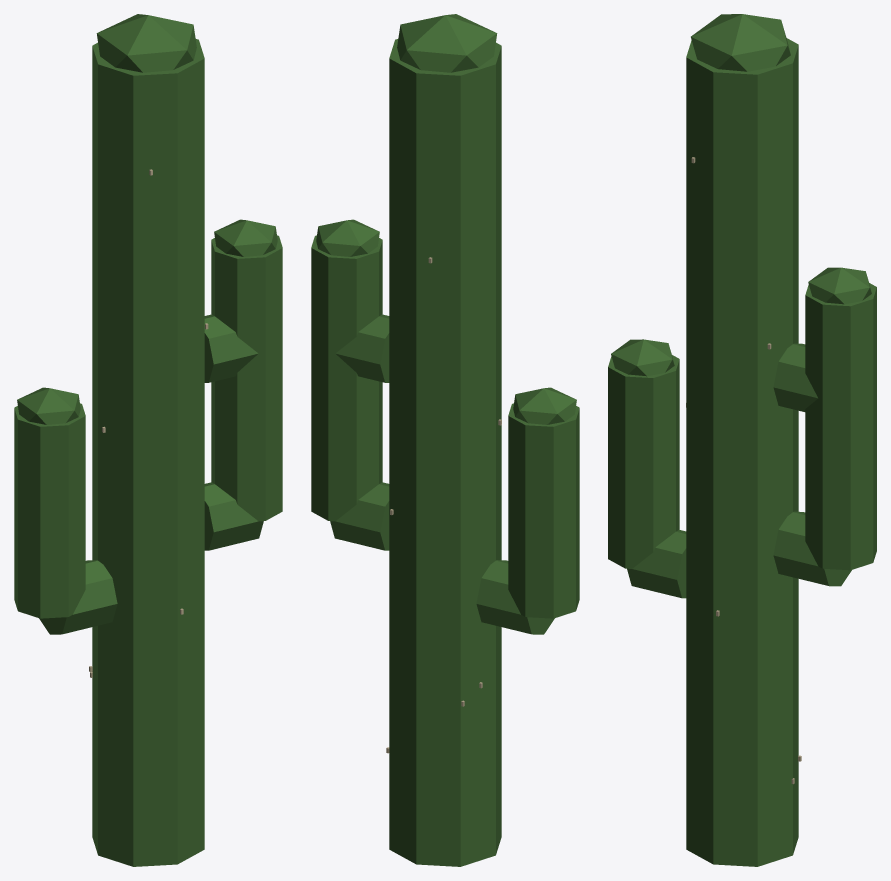
File: bg_desert_cactus_4_lod0.glb
3 views of the same model, side by side, from view 1: azimuth 30°, elevation 25°; view 2: azimuth 150°, elevation 25°; view 3: azimuth 330°, elevation 25° (orthographic).
Parts seen in each view (by area): view 1: body; view 2: body; view 3: body.
Part boxes in pixels (x1,y1,x2,y2): body: (14, 14, 282, 866); body: (311, 14, 579, 866); body: (608, 14, 876, 866).
Bounding box in the file's own units: 1.14 × 3.45 × 0.4442.
